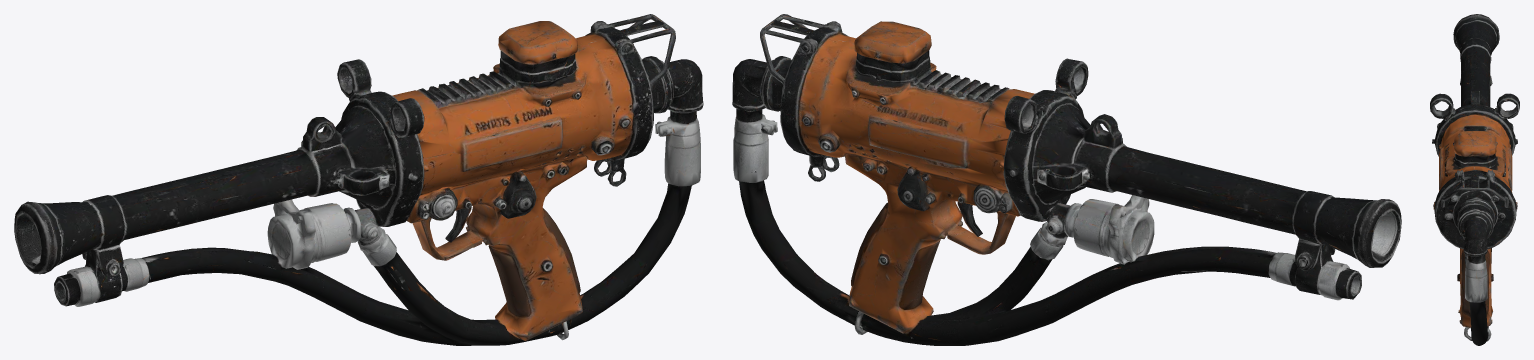
The model's file is gun_flame.glb.
The picture shows the model from 3 angles, left to right: view 1: azimuth 30°, elevation 25°; view 2: azimuth 150°, elevation 25°; view 3: azimuth 270°, elevation 25°; orthographic projection. The views are drawn at different scales.
Bounding box in the file's own units: 1.9 × 0.8364 × 0.3473.
1 material, 1 textured.
